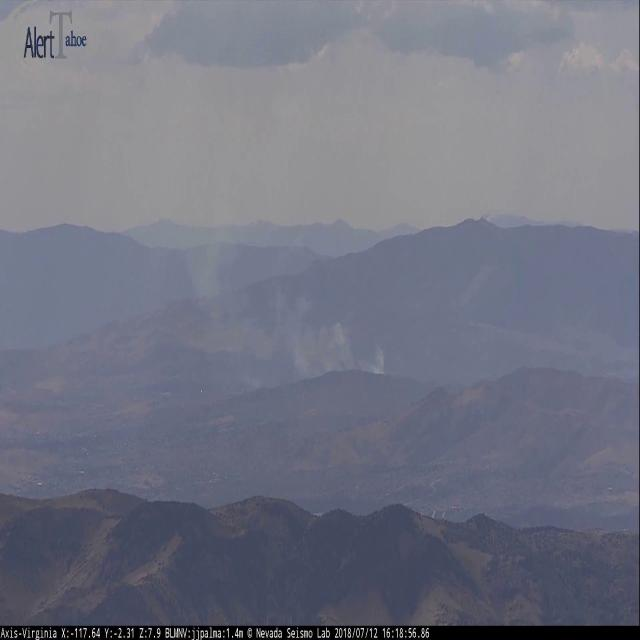smoke: (179, 106, 386, 382)
